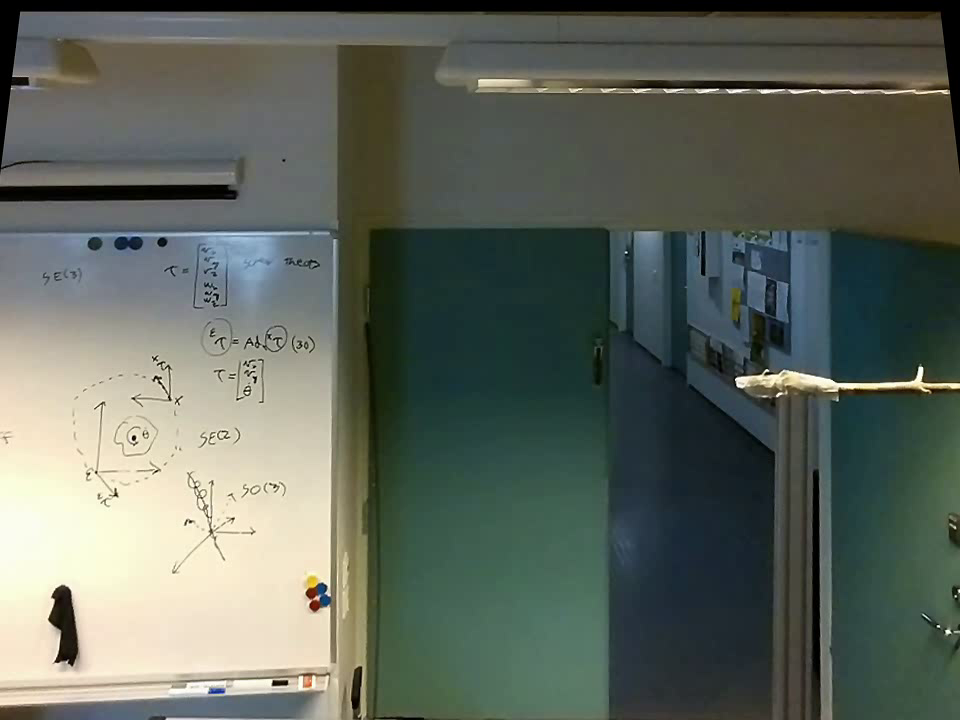aluminum_frame: (2, 657, 345, 713), (765, 399, 820, 718), (324, 224, 346, 676), (1, 221, 343, 245), (329, 220, 345, 683)
branch: (842, 356, 959, 403)
